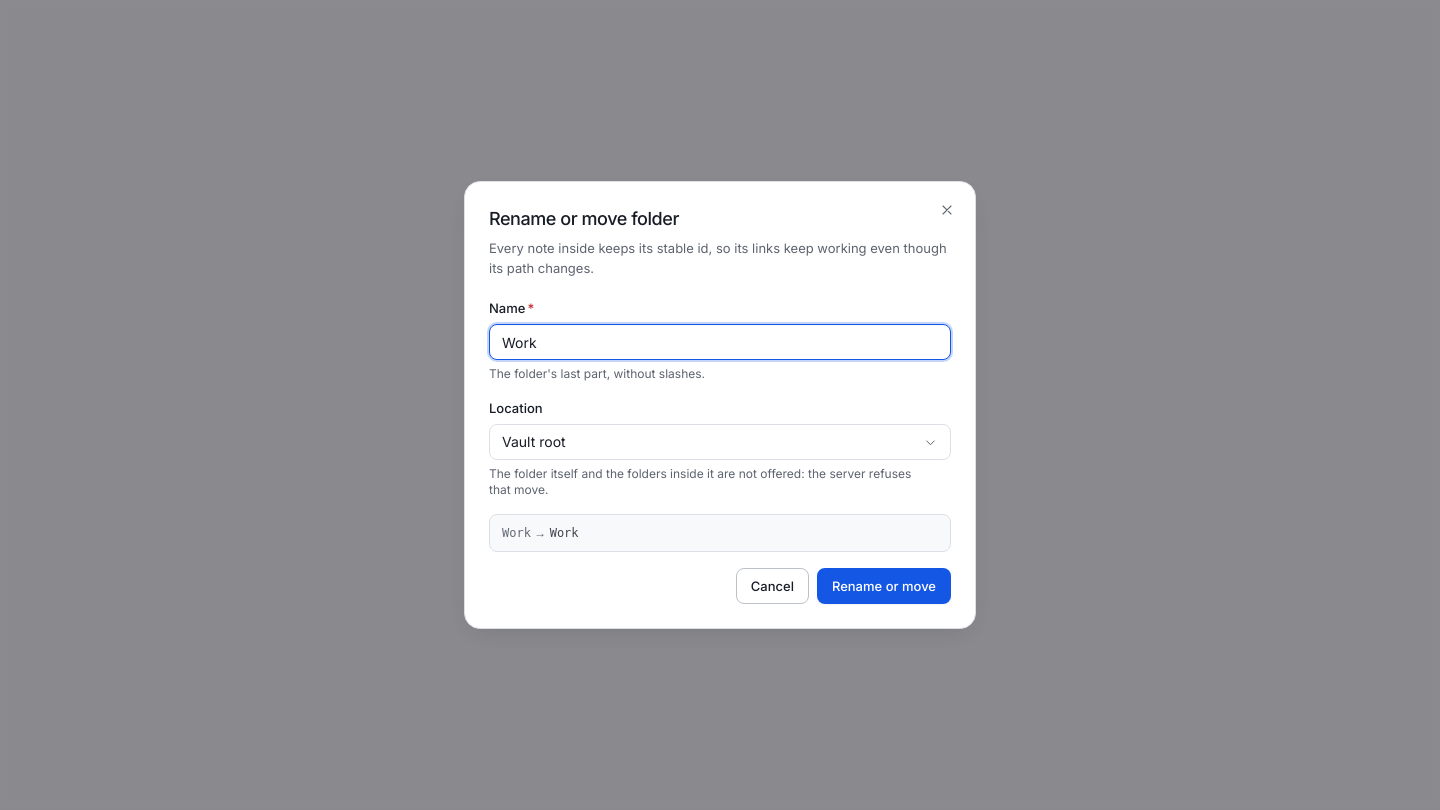
rename or move folder dialog › quotes a refused destination and reports no move
Replace the text in the field labelled "Name*" with "Archive" at point(720, 342), box [489, 324, 951, 360]
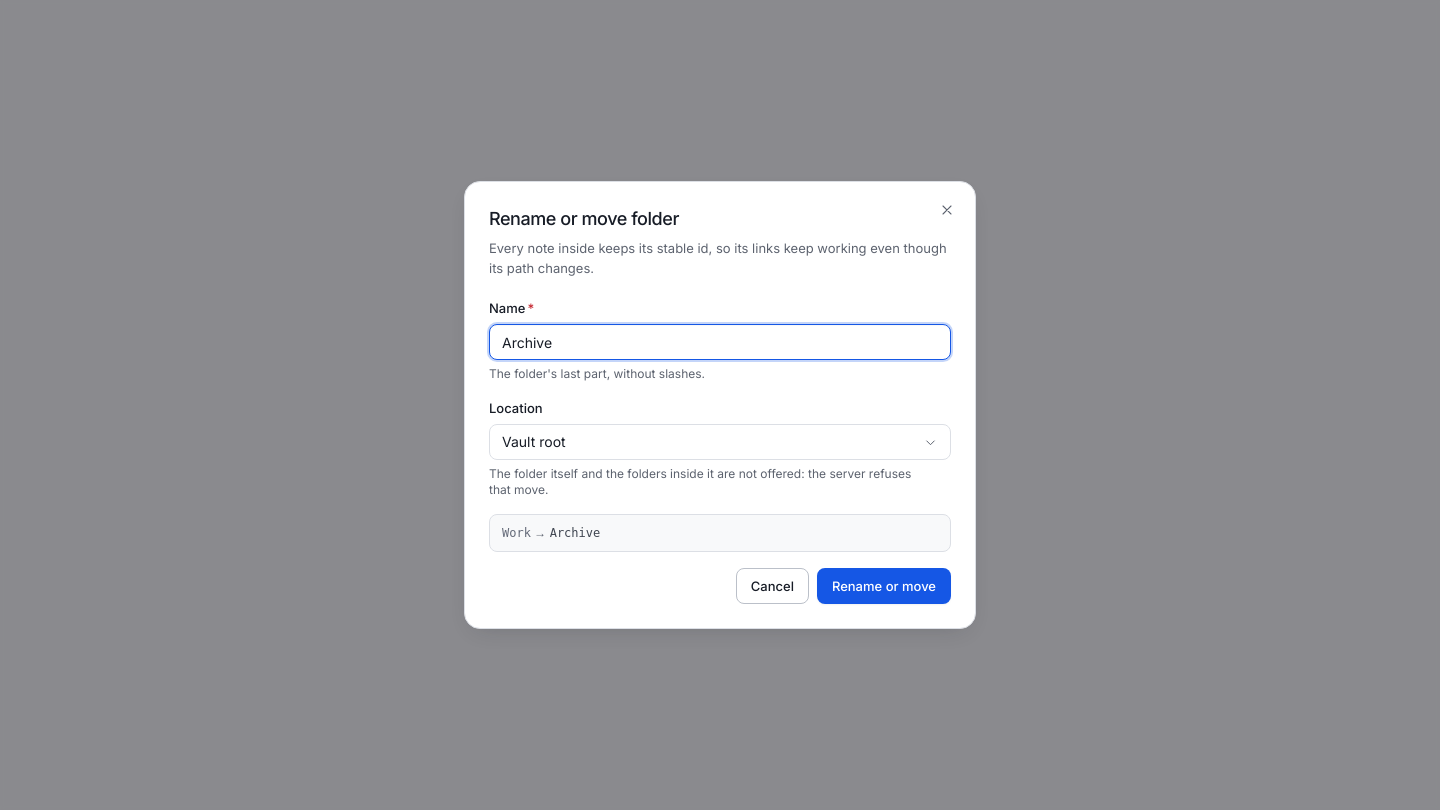
Click the button "Rename or move" at point(884, 586), box [817, 568, 951, 604]
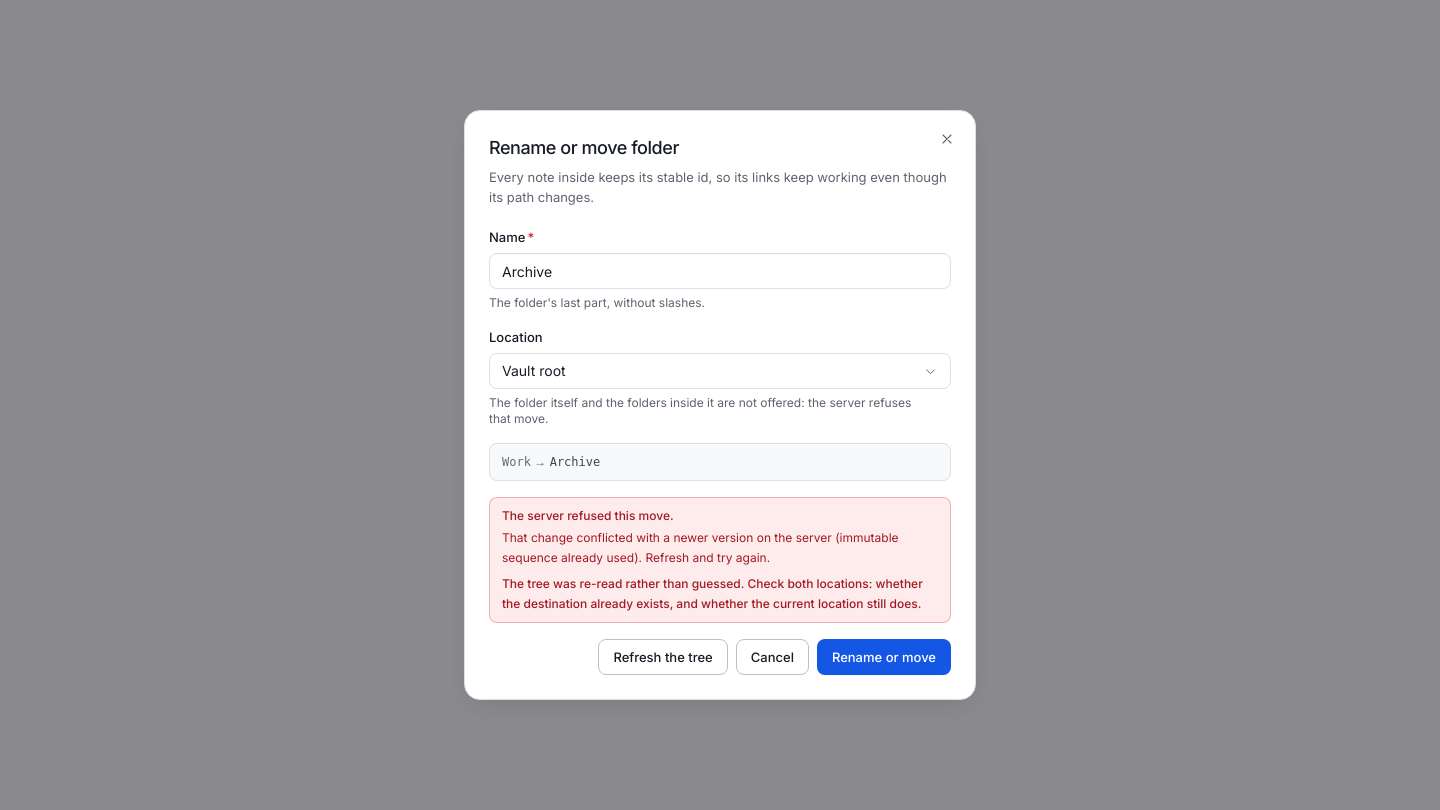
Check: the text "immutable sequence already used" is shown, box [502, 530, 899, 565]
